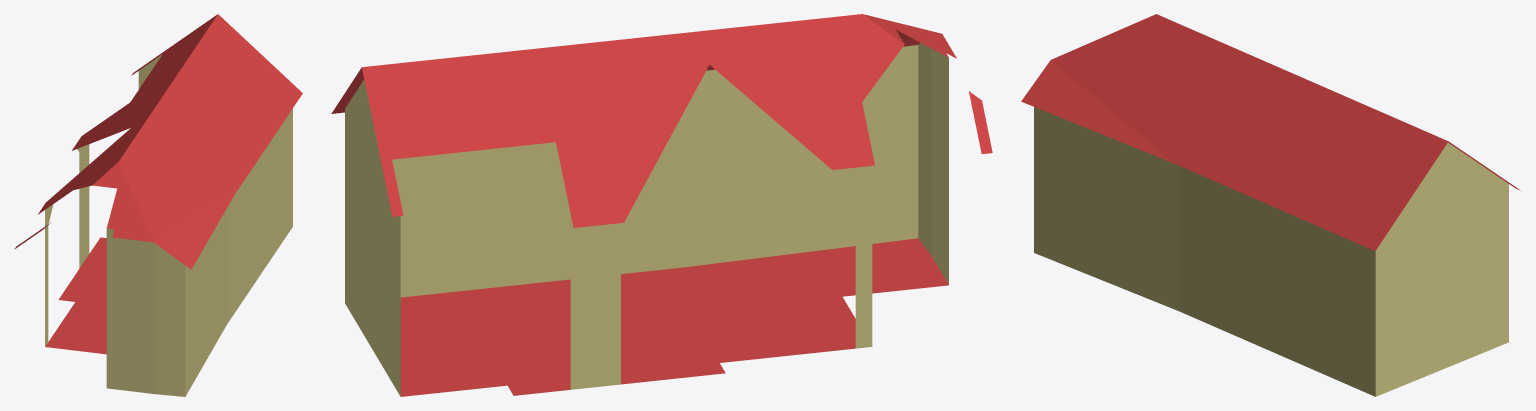
3 views of the same model, side by side, from view 1: azimuth 30°, elevation 25°; view 2: azimuth 150°, elevation 25°; view 3: azimuth 270°, elevation 25° (orthographic). The views are drawn at different scales.
Size of the model in its own units: 27.17 by 27.03 by 13.76.
